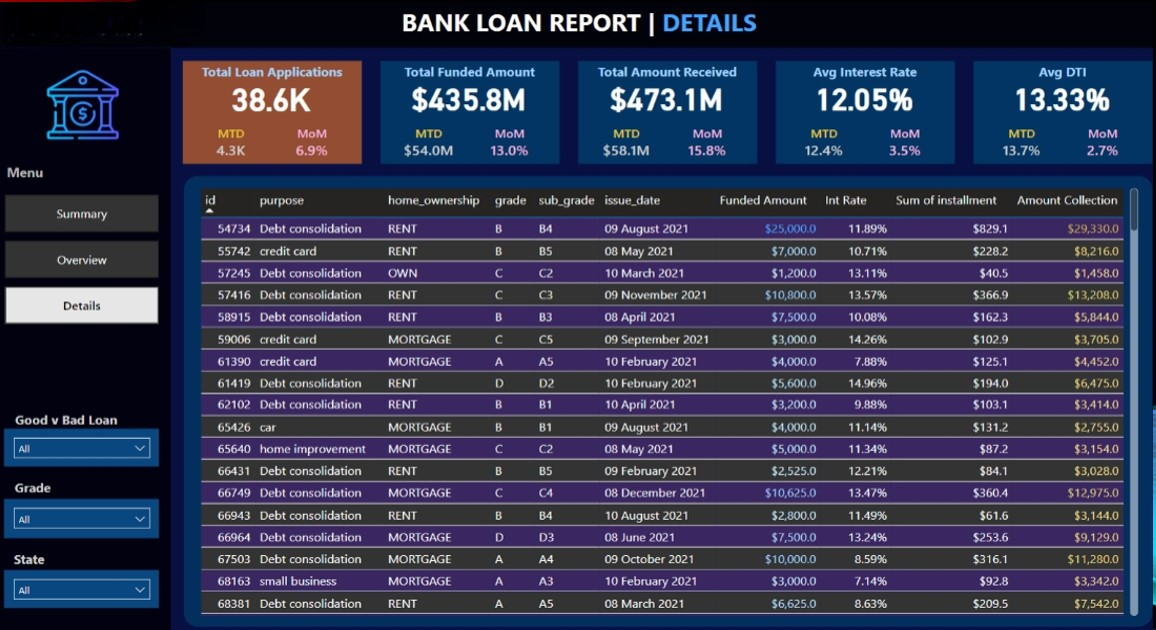

Layout of this report page (visuals, bound fields, positions):
{"tool":"powerbi","page":{"name":"Details","canvas":[1280,720],"ordinal":2},"visuals":[{"type":"textbox","box":[179.6,55.1,195.2,117.4],"z":0},{"type":"card","fields":{"Values":["Measures (2).Total Loan Application"]},"box":[179.6,81.4,195.2,32.3],"z":1000},{"type":"shape","box":[0,0,1280,55.1],"z":2000},{"type":"shape","box":[0,4.8,179.6,715],"z":3000},{"type":"textbox","box":[400,4.8,462.3,46.7],"z":4000},{"type":"textbox","box":[179,61.1,196.1,52.6],"z":5000},{"type":"card","title":"MTD","fields":{"Values":["Measures (2).MTD LOAN APPLICATIONS"]},"box":[191.6,118.6,52.7,43.1],"z":6000},{"type":"textbox","box":[287,113.7,66.8,59.7],"z":7000},{"type":"textbox","box":[383.7,55.4,194.7,115.1],"z":8000},{"type":"textbox","box":[383.7,61.1,200.4,31.3],"z":9000},{"type":"textbox","box":[501.6,113.7,62.5,61.1],"z":10000},{"type":"card","title":"MTD","fields":{"Values":["Measures (2).MTD"]},"box":[383.7,119.4,68.2,49.7],"z":11000},{"type":"card","fields":{"Values":["Measures (2).Total Funded Amount"]},"box":[413.5,66.8,136.4,61.1],"z":12000},{"type":"textbox","box":[584,55.4,230.2,113.7],"z":13000},{"type":"textbox","box":[724.7,113.7,72.5,62.5],"z":14000},{"type":"card","fields":{"Values":["Measures (2).TOTAL AMOUNT RECIEVED"]},"box":[639.4,81,127.9,44],"z":15000},{"type":"textbox","box":[578.3,61.1,235.9,36.9],"z":16000},{"type":"card","title":"MTD","fields":{"Values":["Measures (2).MTD TOTAL AMOUNT RECIEVED"]},"box":[584,117.9,83.8,51.2],"z":17000},{"type":"textbox","box":[824.2,55.4,235.9,115.1],"z":18000},{"type":"textbox","box":[1070,55.4,210.3,113.7],"z":19000},{"type":"textbox","box":[824.2,62.5,235.9,35.5],"z":20000},{"type":"card","fields":{"Values":["Measures (2).MTD AVERAGE INTREST RATE"]},"box":[824.2,82.4,235.9,32.7],"z":21000},{"type":"textbox","box":[964.8,112.3,79.6,56.8],"z":22000},{"type":"card","title":"MTD","fields":{"Values":["Measures (2).MTD AVERAGE INTREST RATE"]},"box":[852.6,115.1,55.4,49.7],"z":23000},{"type":"textbox","box":[1070,61.1,210.3,31.3],"z":24000},{"type":"textbox","box":[1189.3,108,79.6,56.8],"z":25000},{"type":"card","fields":{"Values":["Measures (2).AVERAGE DTI"]},"box":[1070,81,198.9,46.9],"z":26000},{"type":"card","title":"MTD","fields":{"Values":["Measures (2).MTD AVG DTI"]},"box":[1070,115.1,95.2,54],"z":27000},{"type":"shape","box":[191.6,186.8,1076.6,512.6],"z":28000},{"type":"slicer","fields":{"Values":["financial_loan.GOOD VS BAD LOAN"]},"box":[0,443.1,178.4,45.5],"z":31000},{"type":"slicer","fields":{"Values":["financial_loan.grade"]},"box":[0,541.3,178.4,45.5],"z":32000},{"type":"slicer","fields":{"Values":["financial_loan.purpose"]},"box":[0,637.1,178.4,45.5],"z":33000},{"type":"textbox","box":[1.2,404.8,177.2,27.5],"z":34000},{"type":"textbox","box":[0,501.8,62.3,27.5],"z":35000},{"type":"textbox","box":[1.2,598.8,86.2,27.5],"z":36000},{"type":"tableEx","fields":{"Values":["financial_loan.id","financial_loan.purpose","financial_loan.home_ownership","financial_loan.grade","financial_loan.sub_grade","financial_loan.issue_date","Measures (2).Total Funded Amount","Sum(financial_loan.int_rate)","Sum(financial_loan.installment)"]},"box":[203.6,196.4,1056.3,503],"z":42001},{"type":"image","box":[12,4.8,144.9,140.1],"z":42002},{"type":"pageNavigator","box":[1.2,144.9,177.2,132.9],"z":42003}]}

Visuals, with their boxes on the page's 1280x720 design canvas (x1, y1, x2, y2). These are canvas units, not pixel positions in the 1156x630 screenshot, which may show the page scaled, cropped or inside an application window:
textbox: (180, 55, 375, 172)
card - Measures (2).Total Loan Application: (180, 81, 375, 114)
shape: (0, 0, 1280, 55)
shape: (0, 5, 180, 720)
textbox: (400, 5, 862, 52)
textbox: (179, 61, 375, 114)
"MTD" card: (192, 119, 244, 162)
textbox: (287, 114, 354, 173)
textbox: (384, 55, 578, 170)
textbox: (384, 61, 584, 92)
textbox: (502, 114, 564, 175)
"MTD" card: (384, 119, 452, 169)
card - Measures (2).Total Funded Amount: (414, 67, 550, 128)
textbox: (584, 55, 814, 169)
textbox: (725, 114, 797, 176)
card - Measures (2).TOTAL AMOUNT RECIEVED: (639, 81, 767, 125)
textbox: (578, 61, 814, 98)
"MTD" card: (584, 118, 668, 169)
textbox: (824, 55, 1060, 170)
textbox: (1070, 55, 1280, 169)
textbox: (824, 62, 1060, 98)
card - Measures (2).MTD AVERAGE INTREST RATE: (824, 82, 1060, 115)
textbox: (965, 112, 1044, 169)
"MTD" card: (853, 115, 908, 165)
textbox: (1070, 61, 1280, 92)
textbox: (1189, 108, 1269, 165)
card - Measures (2).AVERAGE DTI: (1070, 81, 1269, 128)
"MTD" card: (1070, 115, 1165, 169)
shape: (192, 187, 1268, 699)
slicer - financial_loan.GOOD VS BAD LOAN: (0, 443, 178, 489)
slicer - financial_loan.grade: (0, 541, 178, 587)
slicer - financial_loan.purpose: (0, 637, 178, 683)
textbox: (1, 405, 178, 432)
textbox: (0, 502, 62, 529)
textbox: (1, 599, 87, 626)
tableEx - financial_loan.id x financial_loan.purpose: (204, 196, 1260, 699)
image: (12, 5, 157, 145)
pageNavigator: (1, 145, 178, 278)
